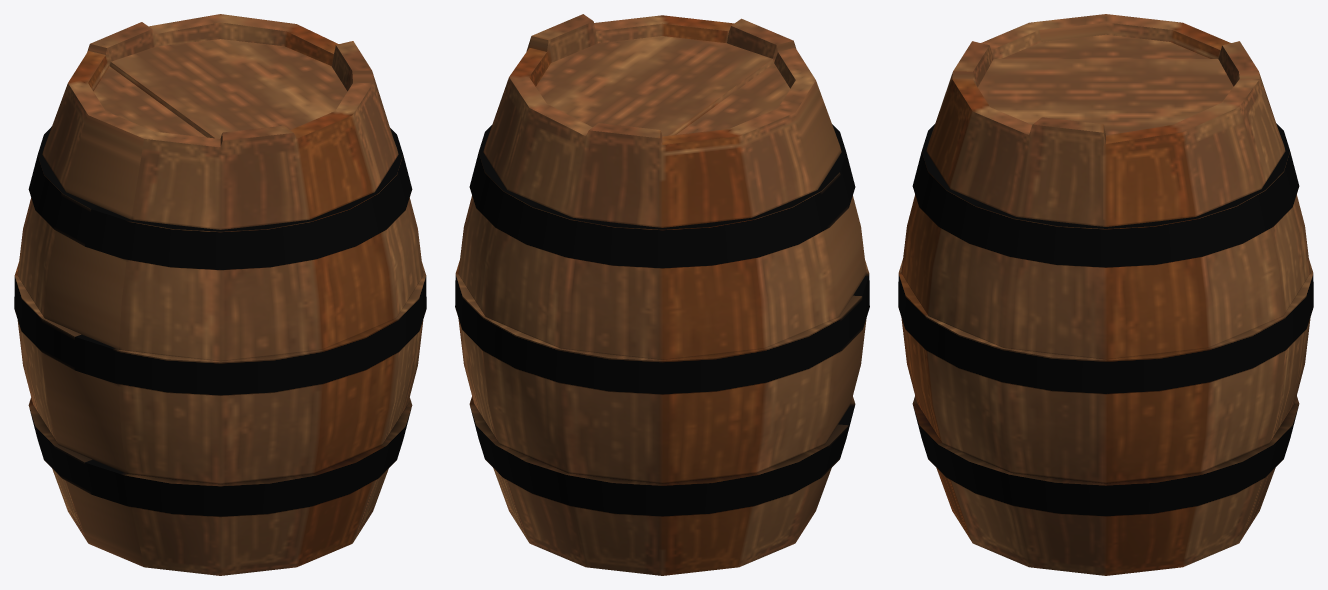
The model's file is tonneau.glb.
The picture shows the model from 3 angles, left to right: view 1: azimuth 30°, elevation 25°; view 2: azimuth 150°, elevation 25°; view 3: azimuth 270°, elevation 25°; orthographic projection.
Visible parts, largest first — view 1: Barrel; view 2: Barrel; view 3: Barrel.
Boxes of the visible parts, x1,y1,x2,y2 form: Barrel: (14, 14, 426, 575); Barrel: (455, 14, 869, 575); Barrel: (898, 14, 1313, 575).
Size of the model in its own units: 0.5272 by 0.62 by 0.5272.
Materials: 1 (1 with a texture image).
